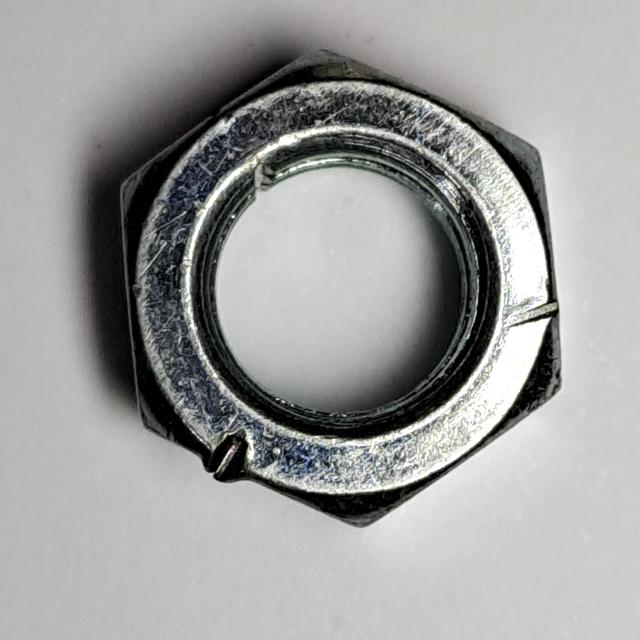Scratches: (109, 34, 574, 545)
